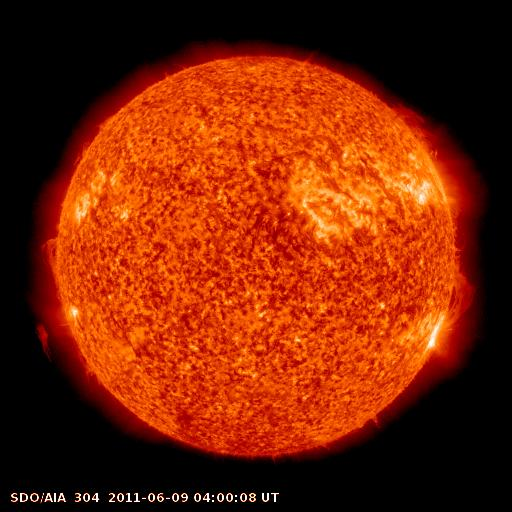prominence: (26, 307, 108, 386), (386, 90, 453, 155), (443, 208, 478, 328), (32, 224, 77, 287)
